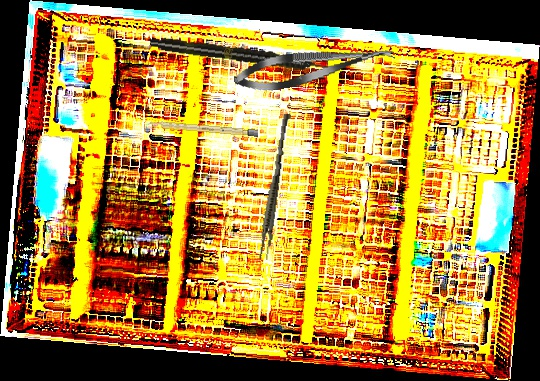Handpiece: (148, 34, 332, 76)
Micro Scissor: (231, 36, 397, 97)
Scalpel Handle: (147, 120, 259, 137)
Tissue Forceps: (257, 112, 292, 261)
